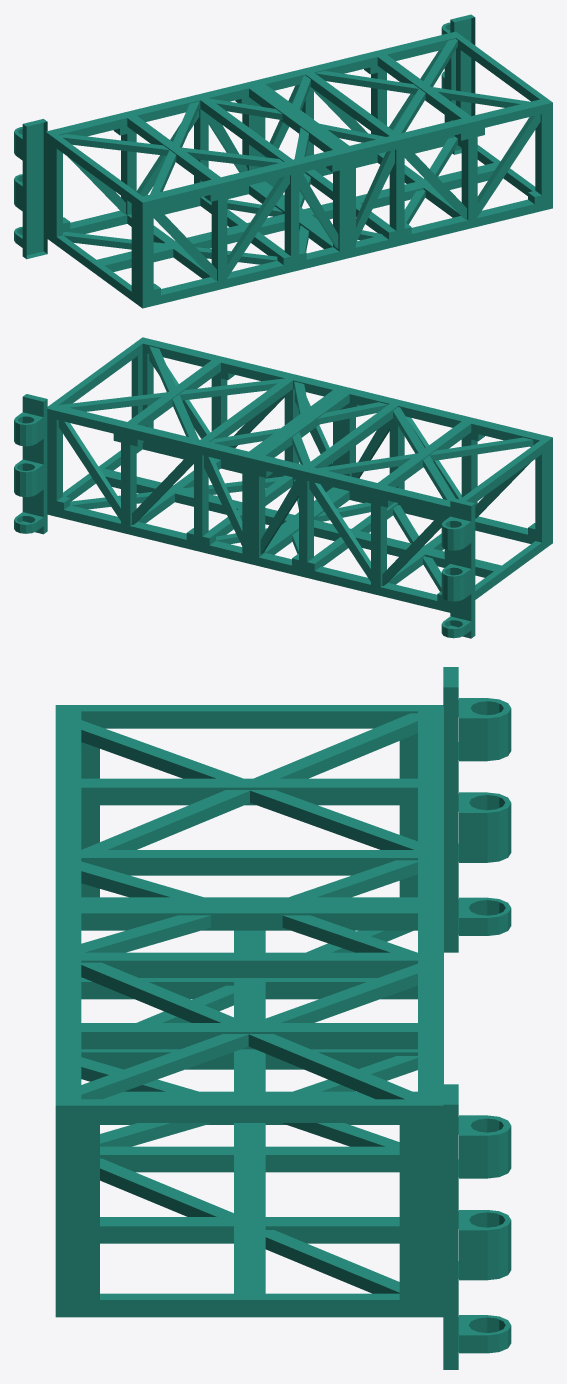
The model's file is Side_B_ApproachBig.FBX.
3 renders of one model, top to bottom at view 1: azimuth 30°, elevation 25°; view 2: azimuth 150°, elevation 25°; view 3: azimuth 270°, elevation 25°, orthographic. The views are drawn at different scales.
Visible parts, largest first — view 1: Side_B_ApproachBig; view 2: Side_B_ApproachBig; view 3: Side_B_ApproachBig.
Boxes of the visible parts, <box> form: Side_B_ApproachBig: <box>14,14,552,308</box>; Side_B_ApproachBig: <box>14,337,552,638</box>; Side_B_ApproachBig: <box>55,667,511,1369</box>.
Size of the model in its own units: 1221 by 345 by 537.
